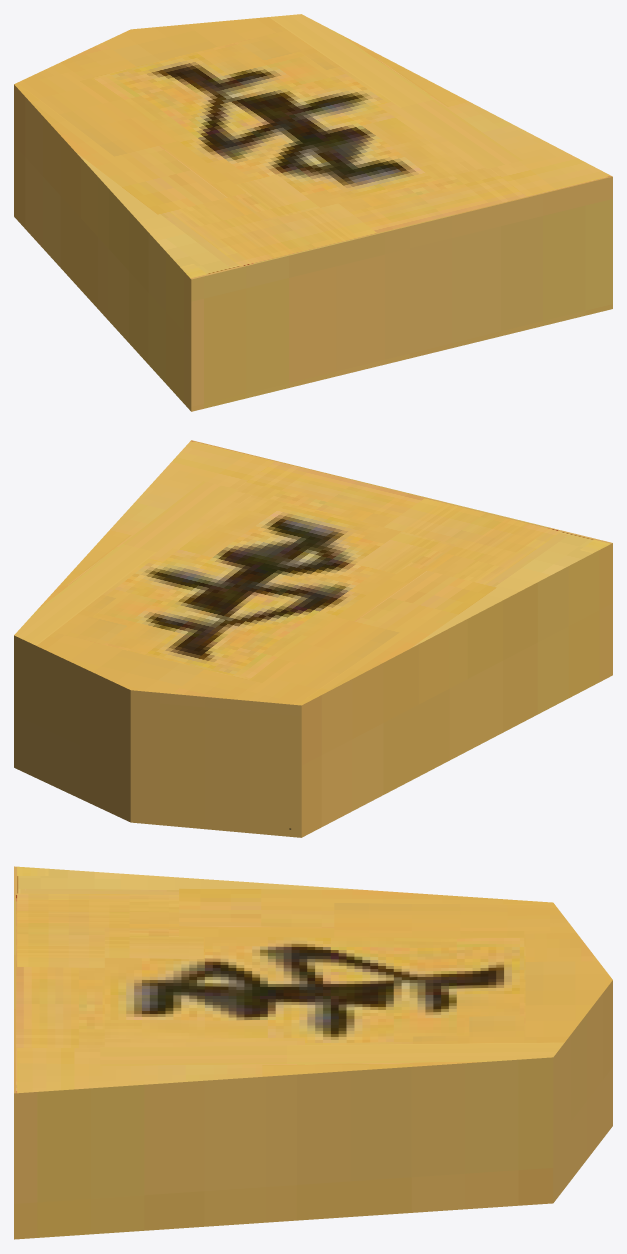
The model's file is KYOSYA_01.fbx.
3 views of the same model, one above another, from view 1: azimuth 30°, elevation 25°; view 2: azimuth 150°, elevation 25°; view 3: azimuth 270°, elevation 25° (orthographic). The views are drawn at different scales.
Parts seen in each view (by area): view 1: Circle; view 2: Circle; view 3: Circle.
Boxes of the visible parts, x1,y1,x2,y2 form: Circle: (14, 14, 612, 411); Circle: (14, 440, 612, 837); Circle: (14, 866, 612, 1239).
Bounding box in the file's own units: 100 × 30 × 112.
